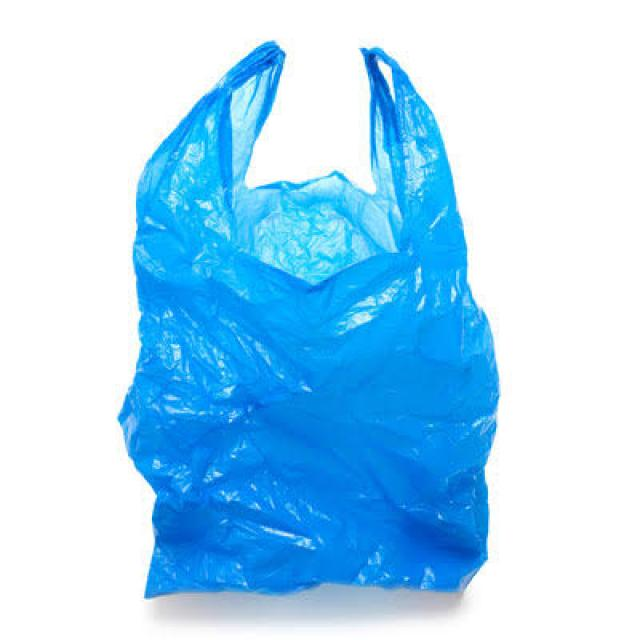plastic bag: (89, 34, 534, 608)
